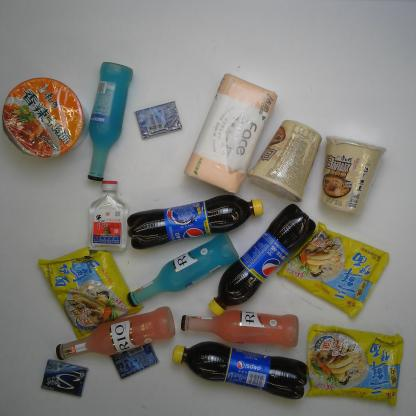Alcohol: (125, 232, 242, 308), (54, 306, 177, 361), (86, 61, 134, 182), (179, 309, 300, 348), (86, 178, 130, 253)
Drink: (207, 202, 317, 317), (171, 340, 310, 402), (125, 193, 265, 250)
Gum: (134, 99, 184, 141), (110, 338, 160, 379), (39, 359, 90, 397)
Instant Noodles: (274, 220, 390, 320), (36, 246, 146, 342), (304, 322, 404, 409), (2, 76, 86, 161), (247, 119, 324, 204), (318, 135, 388, 214)
Tissue: (183, 71, 279, 196)
